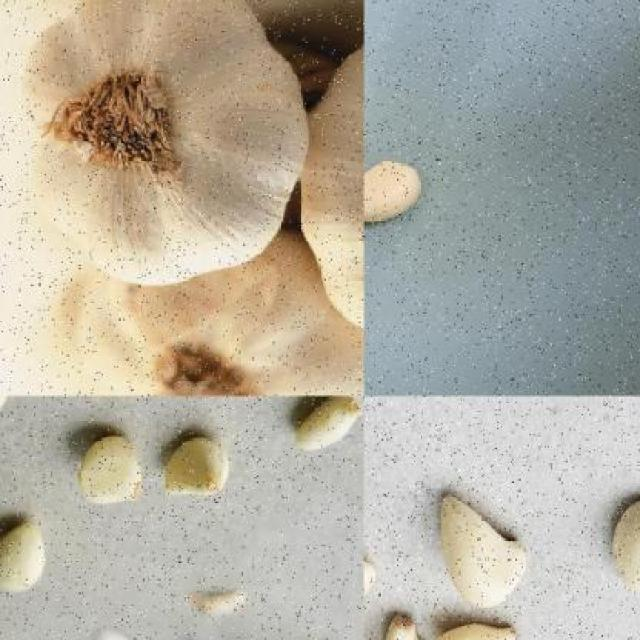garlic: (18, 0, 314, 288), (72, 236, 363, 395), (295, 28, 363, 354), (438, 490, 526, 608), (72, 424, 143, 510), (289, 395, 363, 457), (162, 434, 230, 500), (365, 156, 423, 227), (380, 612, 526, 640), (0, 511, 46, 594), (608, 494, 640, 598)
